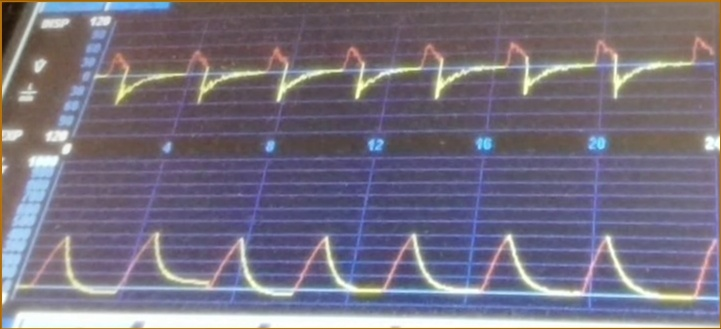Accumulation Flow: (109, 34, 714, 127)
Volume: (35, 225, 716, 310)
